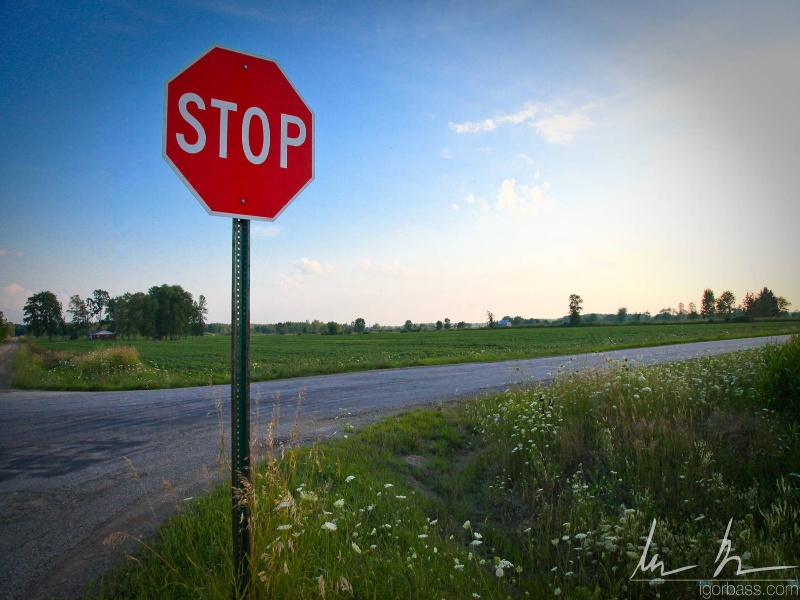stop sign: (158, 42, 320, 228)
